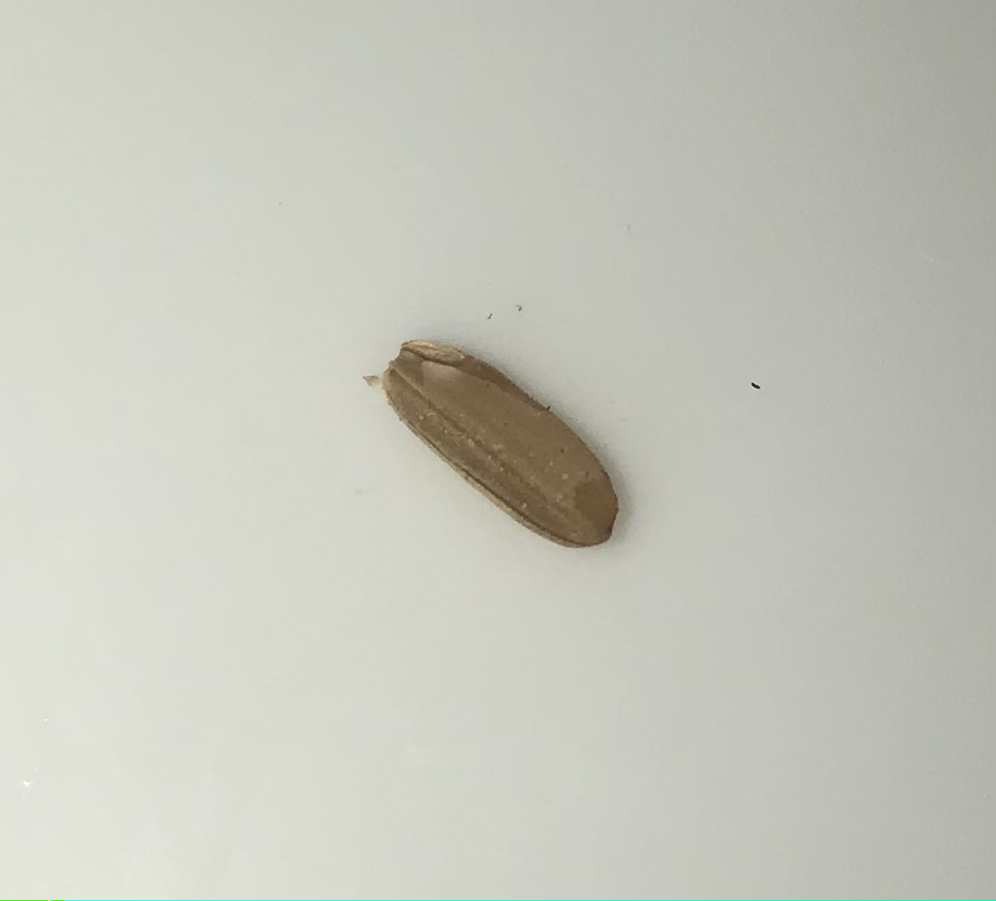Gao Lut Dien Bien: (370, 333, 624, 556)
